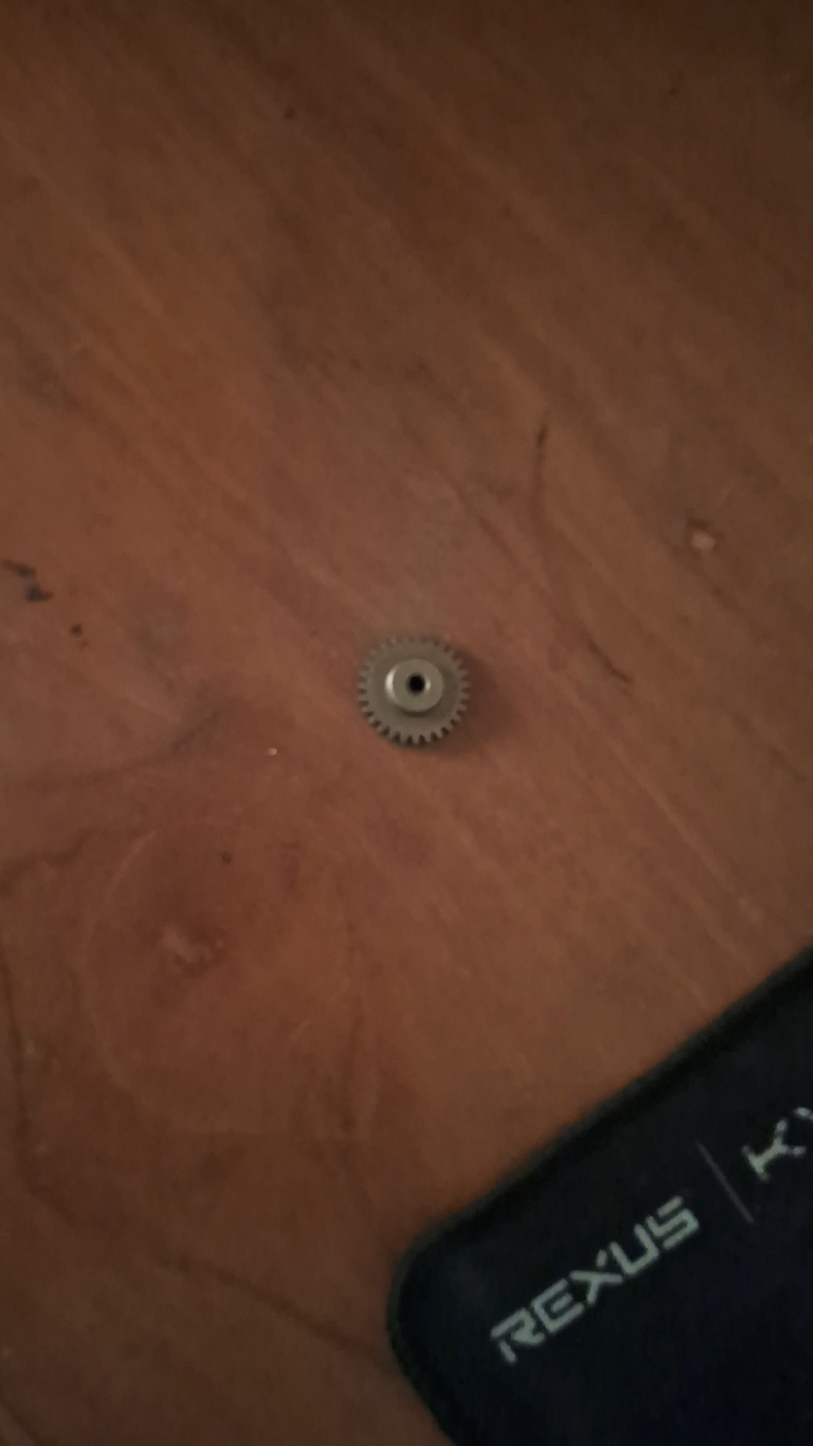spur gear: (359, 638, 468, 746)
